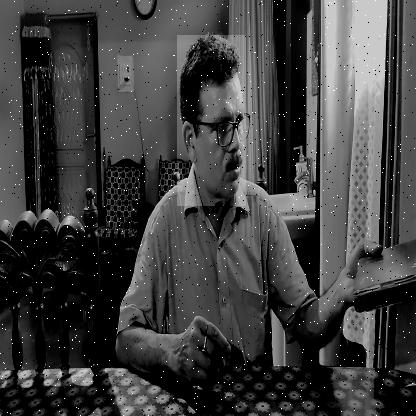Distracted: (177, 35, 246, 206)
